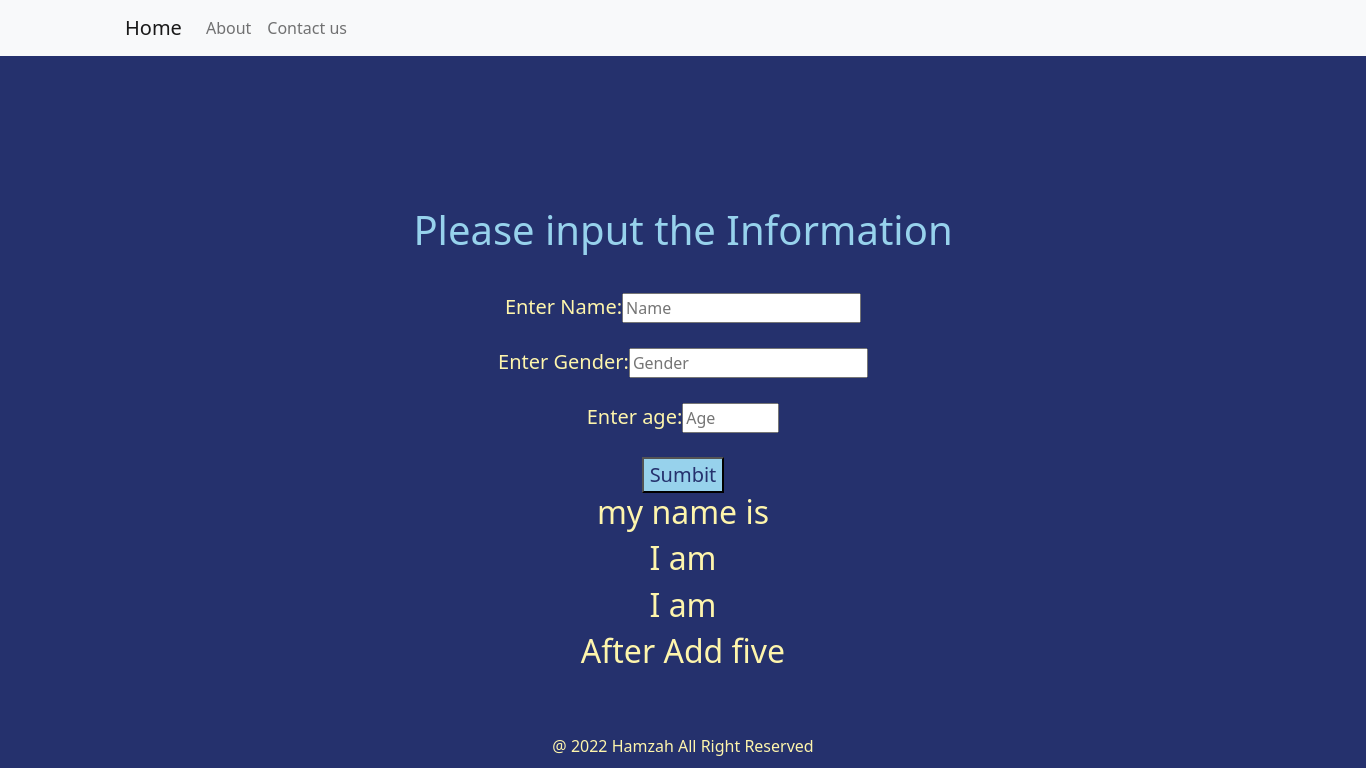
it: change gender
Type "male" into the field with test id "Gender-input" at (748, 363), box [629,348,868,378]
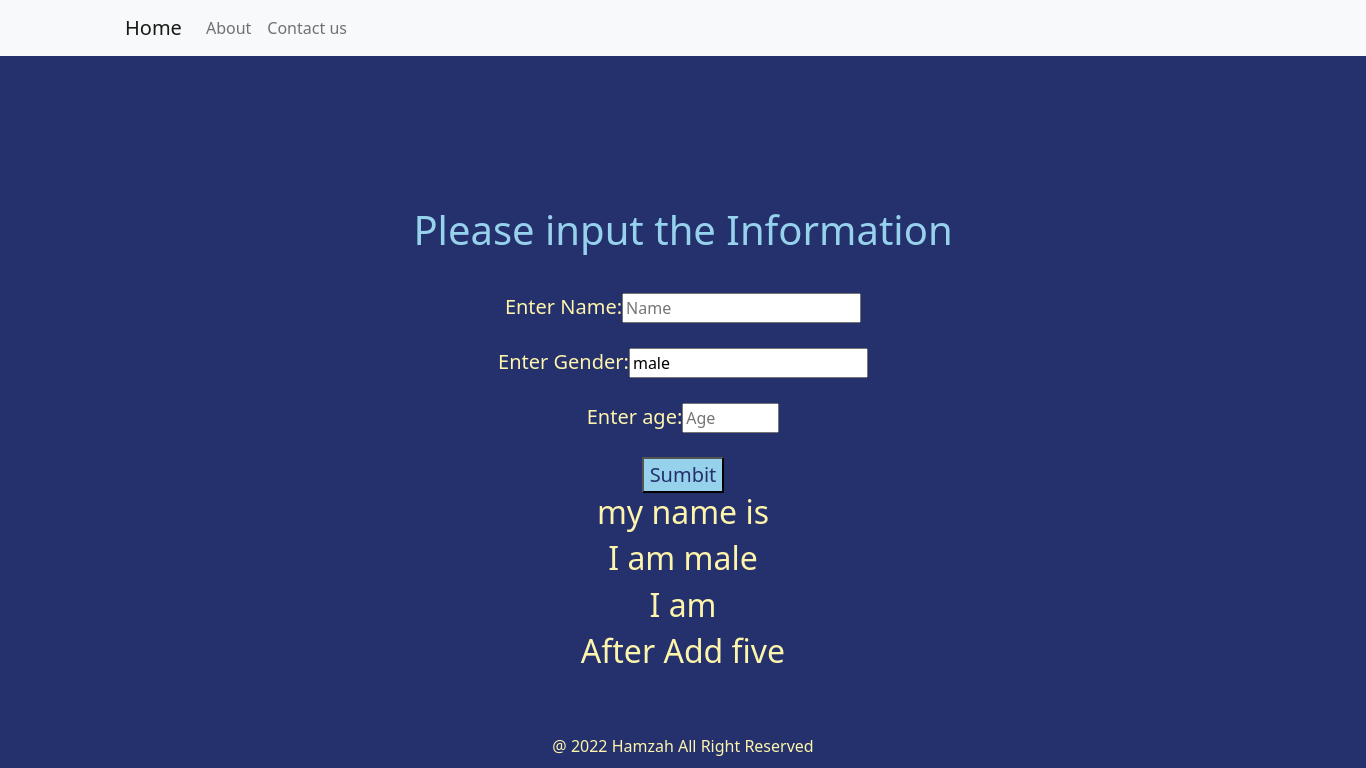
Result: the heading with test id "Gender" reads "I am male" at [608,536,758,579]
